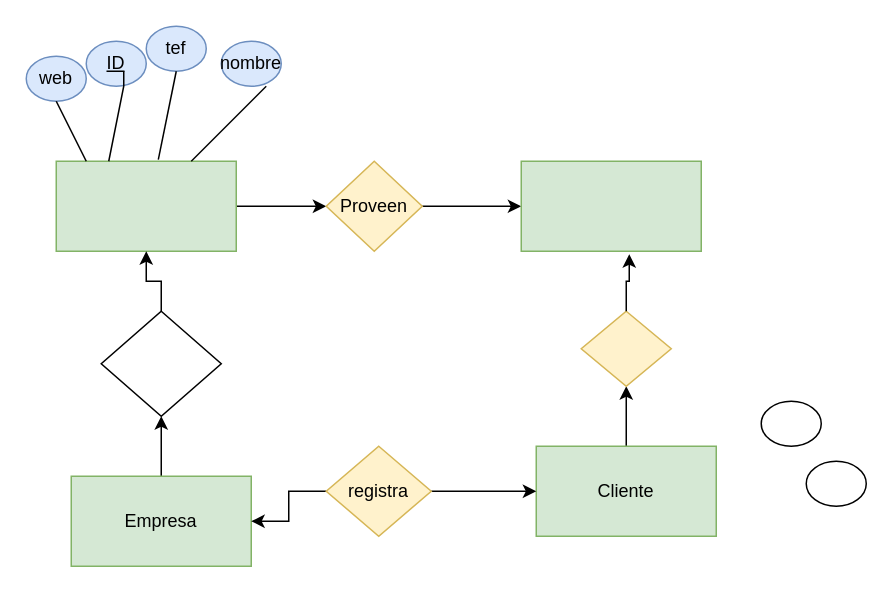
The diagram is 893 pixels wide and 593 high, and some of its shapes have lost their labels. Each missing label, with the box of its shape:
compra: (580, 310, 671, 386)
Productos: (520, 160, 701, 251)
Proveedor: (55, 160, 236, 251)
trrabajan en: (100, 310, 221, 416)
